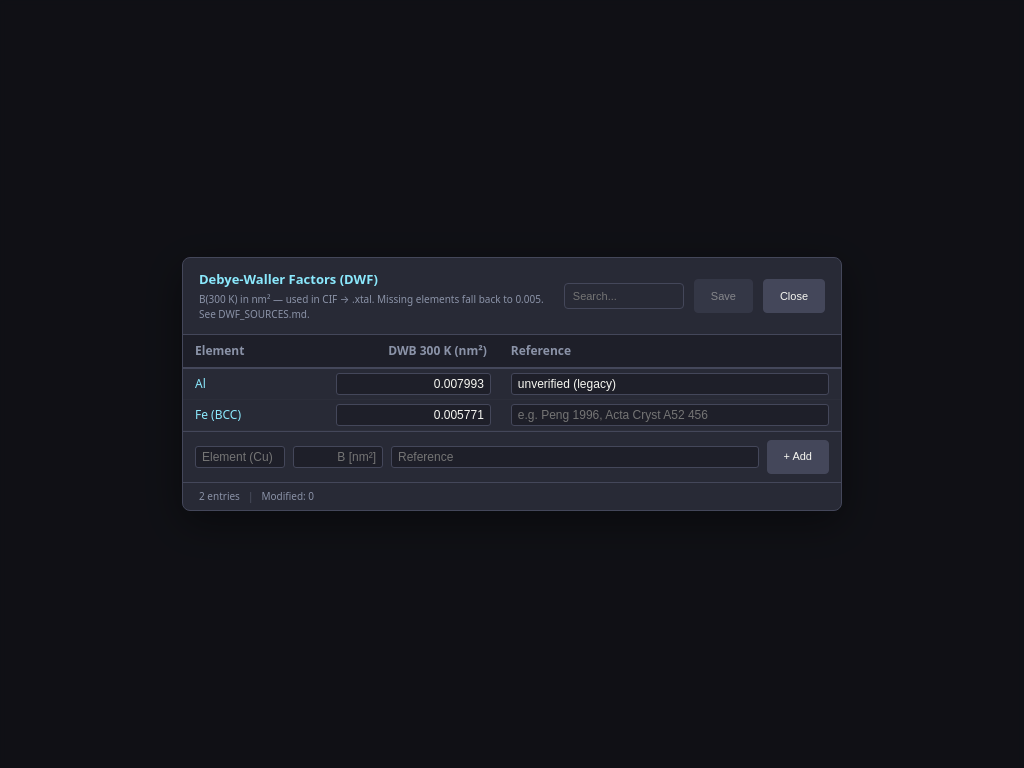
Test: DwfDialog › refuses to add a duplicate element
Expected: the 1st field showing "0.007993" is shown, x1=336 y1=373 x2=491 y2=395
Step 1. Type "Al" into the field with placeholder "Element (Cu)" → [240, 457], box x1=195 y1=446 x2=285 y2=468
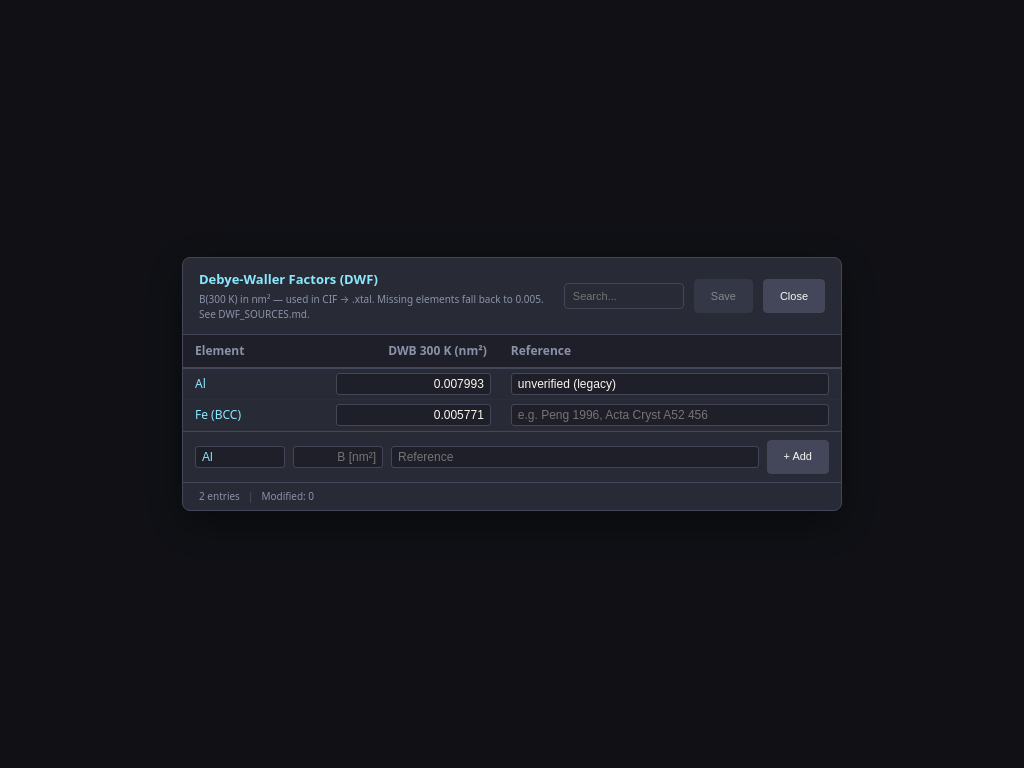
Step 2. Type "0.008" into the field with placeholder "B [nm²]" → [338, 457], box x1=293 y1=446 x2=383 y2=468
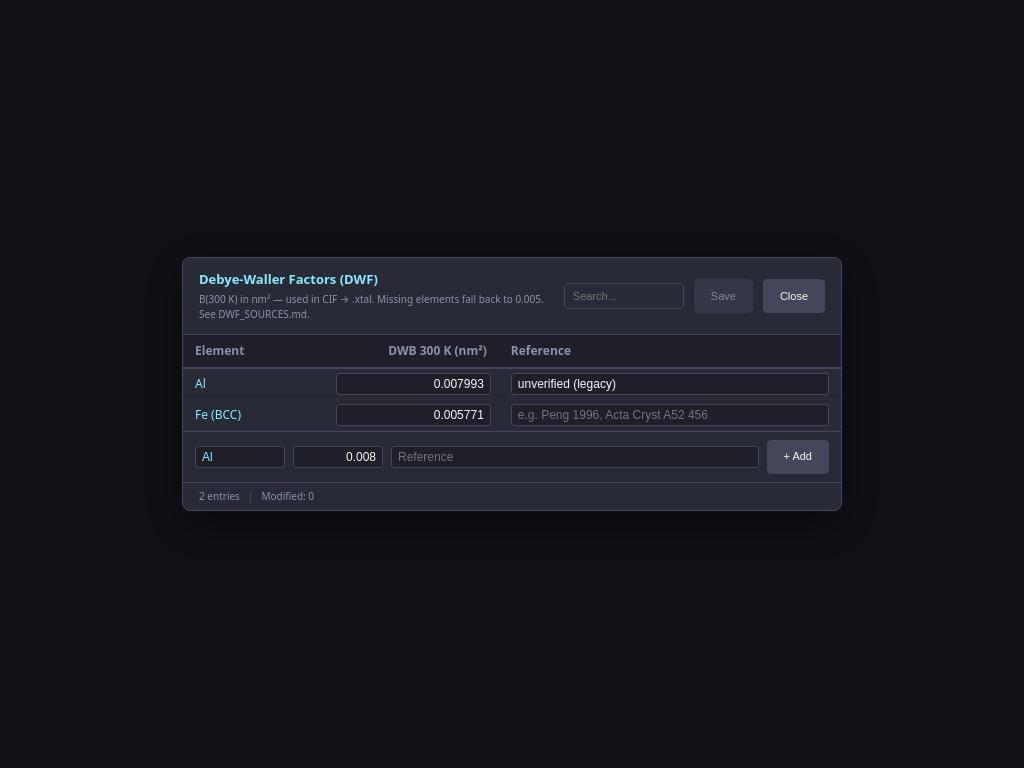
Step 3. Click the button "+ Add" → [798, 457], box x1=766 y1=440 x2=829 y2=474
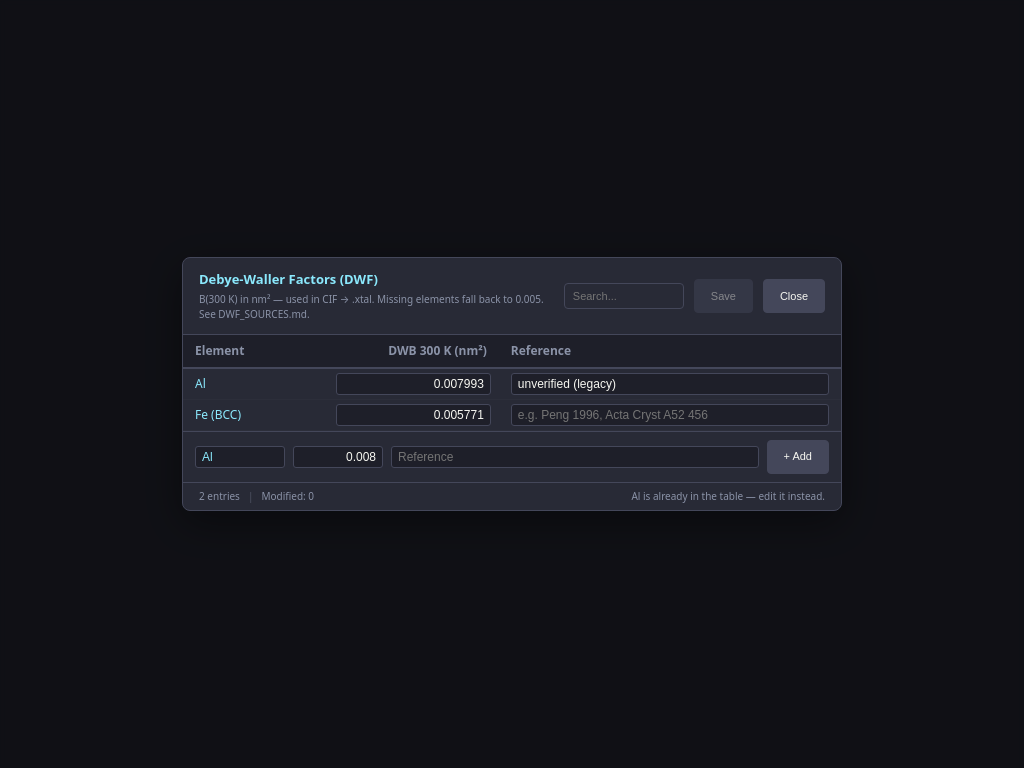
Expected: the text "Al is already in the table — edit it instead." is shown, x1=631 y1=489 x2=825 y2=504
